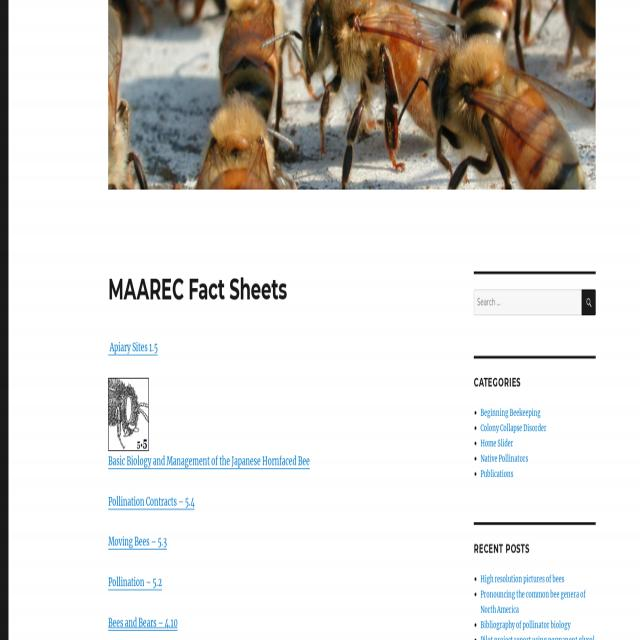button: (109, 1, 596, 190), (108, 376, 149, 449), (582, 288, 596, 312)
field: (474, 288, 582, 312)
